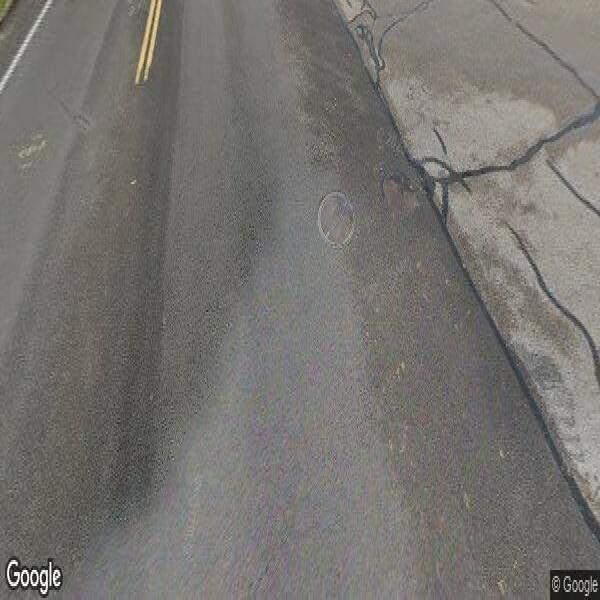manhole: (312, 192, 358, 251)
